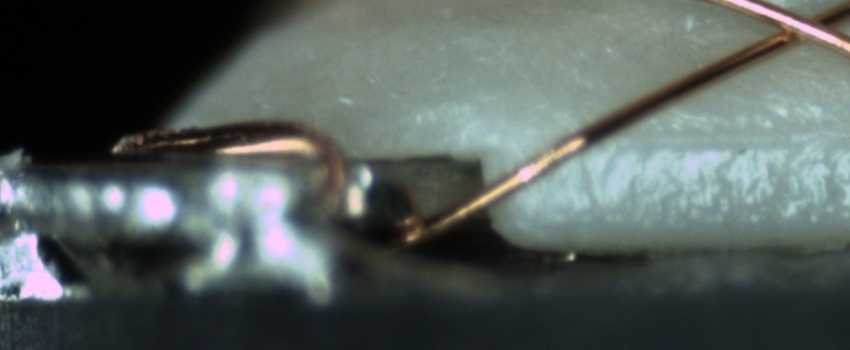CL: (749, 1, 847, 54)
DL: (596, 106, 849, 170)
TE: (105, 113, 368, 217)
